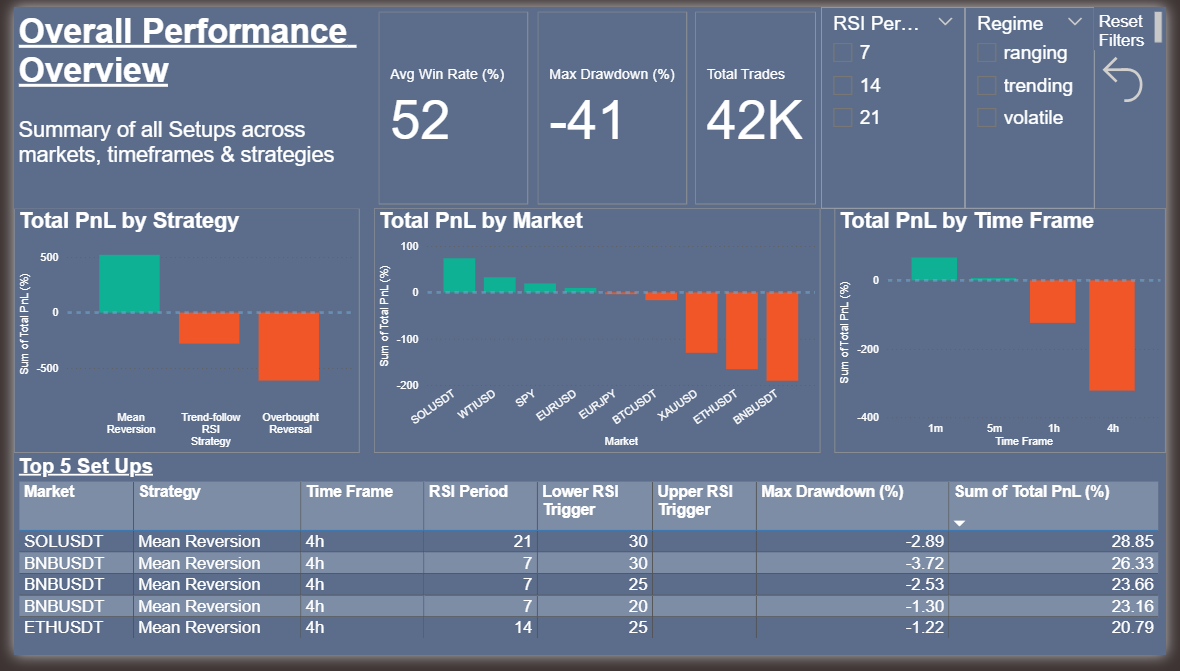

Layout of this report page (visuals, bound fields, positions):
{"tool":"powerbi","page":{"name":"Overview","canvas":[1280,720],"ordinal":0},"visuals":[{"type":"cardVisual","fields":{"Data":["rsi_strategy_results.Average Win Rate"]},"box":[400,0,176,224],"z":0},{"type":"cardVisual","fields":{"Data":["Min(rsi_strategy_results.Max Drawdown (%))"]},"box":[576,0,176,224],"z":1000},{"type":"cardVisual","fields":{"Data":["Sum(rsi_strategy_results.Total Trades)"]},"box":[752,0,144,224],"z":2000},{"type":"clusteredColumnChart","title":"Total PnL by Strategy","fields":{"Category":["rsi_strategy_results.Strategy"],"Y":["Sum(rsi_strategy_results.Total PnL (%))"]},"box":[0,224,384,272],"z":3000},{"type":"clusteredColumnChart","title":"Total PnL by Market","fields":{"Category":["rsi_strategy_results.Market"],"Y":["Sum(rsi_strategy_results.Total PnL (%))"]},"box":[400,224,496,272],"z":4000},{"type":"clusteredColumnChart","title":"Total PnL by Time Frame","fields":{"Category":["rsi_strategy_results.Time Frame"],"Y":["Sum(rsi_strategy_results.Total PnL (%))"]},"box":[912,224,368,272],"z":5000},{"type":"tableEx","title":"Top 5 Set Ups","fields":{"Values":["rsi_strategy_results.Market","rsi_strategy_results.Strategy","rsi_strategy_results.Time Frame","rsi_strategy_results.RSI Period","rsi_strategy_results.Lower RSI Trigger","rsi_strategy_results.Upper RSI Trigger","Min(rsi_strategy_results.Max Drawdown (%))","Sum(rsi_strategy_results.Total PnL (%))"]},"box":[0,496,1280,224],"z":6000},{"type":"slicer","title":"Regime FIlter ","fields":{"Values":["rsi_strategy_results.Regime"]},"box":[1056,0,144,224],"z":7000},{"type":"slicer","fields":{"Values":["rsi_strategy_results.RSI Period"]},"box":[896,0,160,224],"z":8000},{"type":"textbox","box":[0,0,400,224],"z":9000},{"type":"textbox","box":[1200,0,80,48],"z":10000},{"type":"actionButton","box":[1200,48,80,64],"z":11000}]}

Visuals, with their boxes in screenshot pixels (x1, y1, x2, y2), scaled from the page's 1280x720 canvas onto the 1180x671 screenshot:
cardVisual - rsi_strategy_results.Average Win Rate: 369:0:531:209
cardVisual - Min(rsi_strategy_results.Max Drawdown (%)): 531:0:693:209
cardVisual - Sum(rsi_strategy_results.Total Trades): 693:0:826:209
"Total PnL by Strategy" clusteredColumnChart: 0:209:354:462
"Total PnL by Market" clusteredColumnChart: 369:209:826:462
"Total PnL by Time Frame" clusteredColumnChart: 841:209:1179:462
"Top 5 Set Ups" tableEx: 0:462:1179:670
"Regime FIlter " slicer: 974:0:1106:209
slicer - rsi_strategy_results.RSI Period: 826:0:974:209
textbox: 0:0:369:209
textbox: 1106:0:1179:45
actionButton: 1106:45:1179:104
